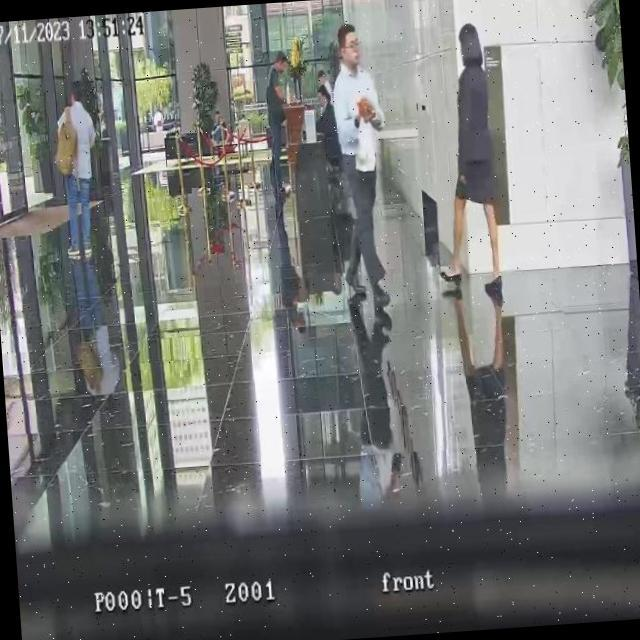person: (422, 23, 504, 304), (326, 19, 396, 307), (54, 78, 104, 266), (260, 50, 298, 204), (312, 76, 343, 172), (209, 108, 229, 156), (318, 67, 332, 104), (152, 106, 165, 130), (144, 108, 153, 130)
